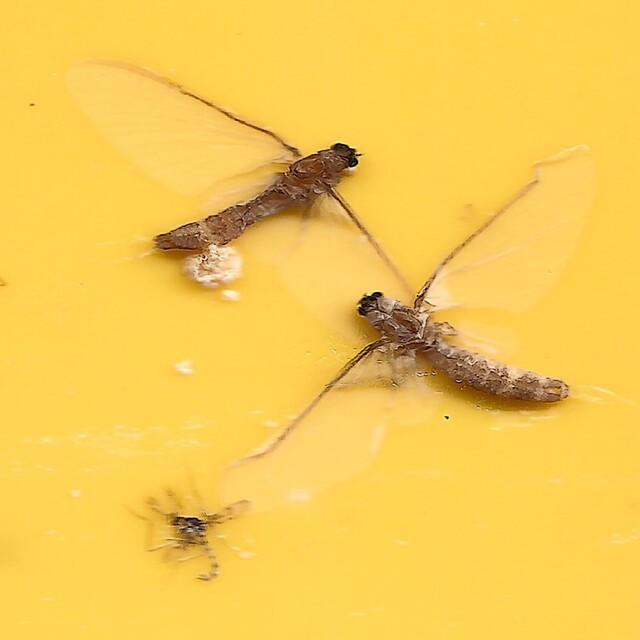Ephemeroptera: (236, 169, 575, 484), (65, 54, 444, 330)
Nematocera: (162, 500, 247, 586)
